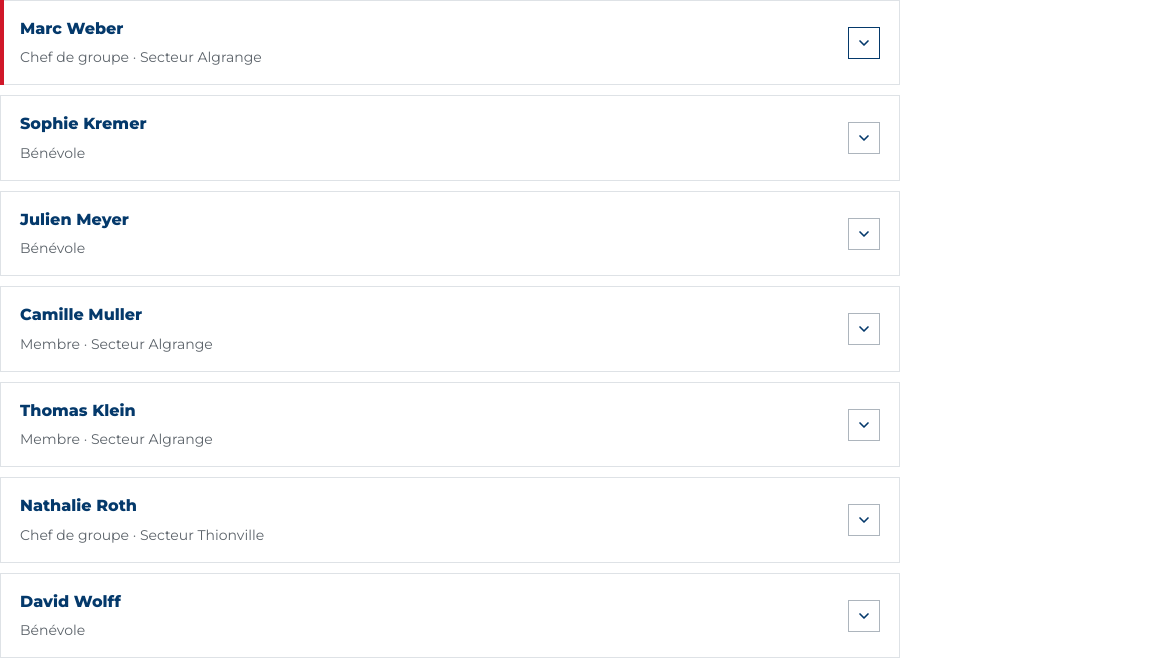
MembersAdminPage › lets an Admin correct someone's names
Click the button "Sophie Kremer Bénévole" at [83, 124], box [20,112,832,165]
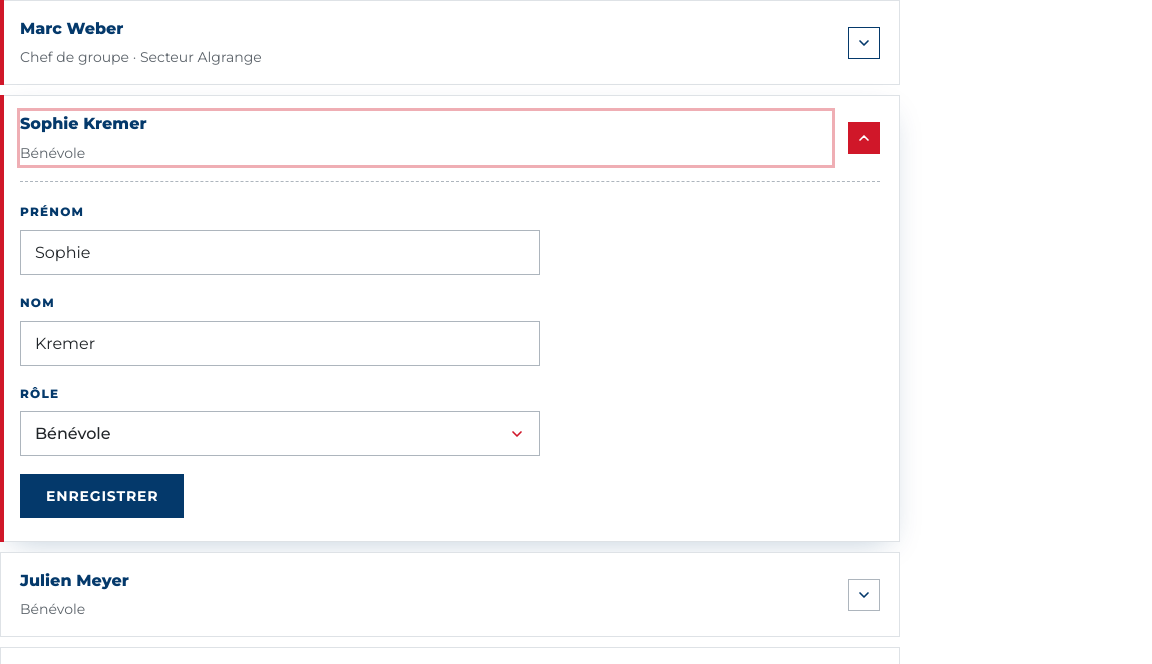
Replace the text in the field labelled "Prénom" with "Sophia" at [280, 252], box [20,230,540,275]
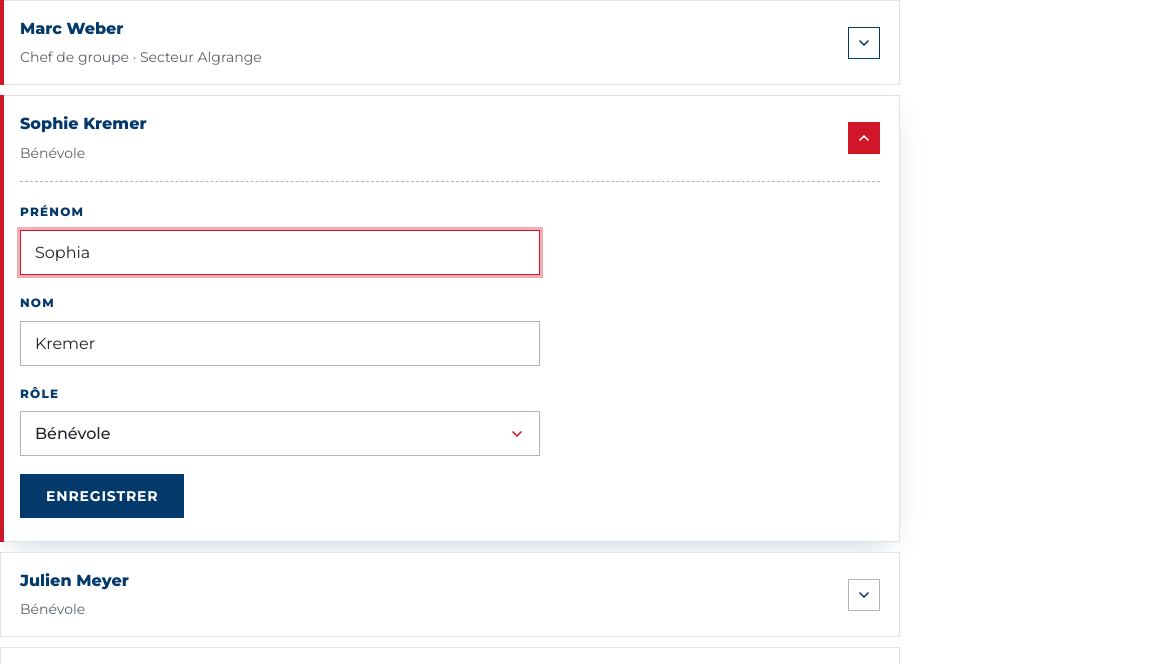
Click the button "Enregistrer" at [102, 496], box [20,474,184,518]
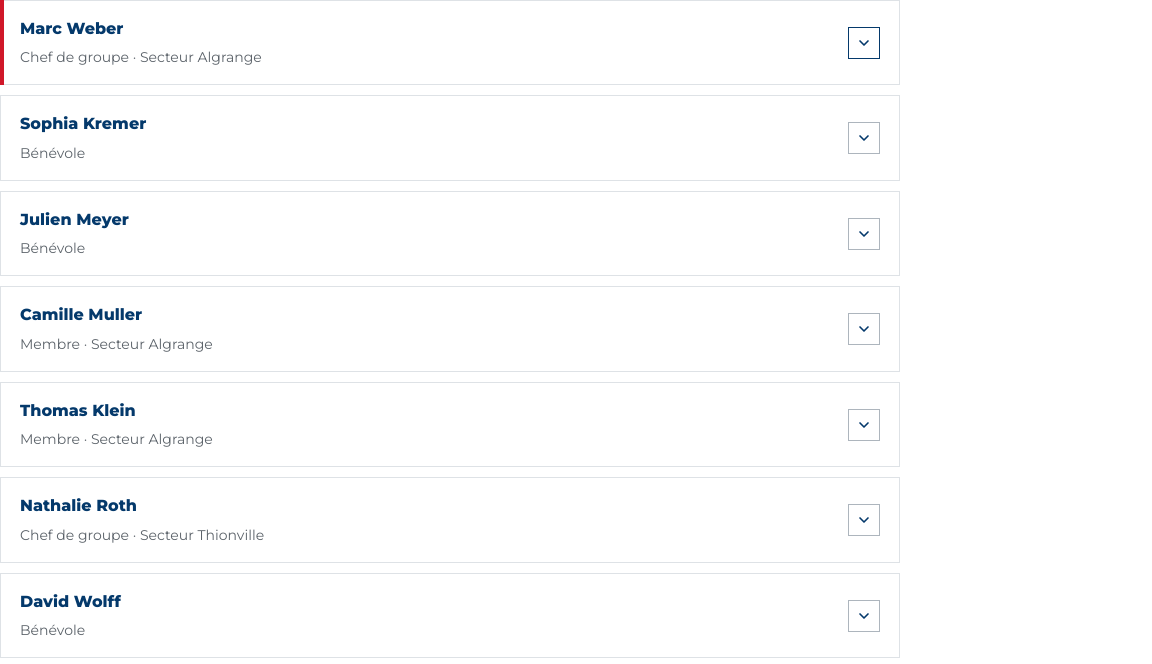
Check: the button "Sophia Kremer Bénévole" is shown, box [20,112,832,165]
